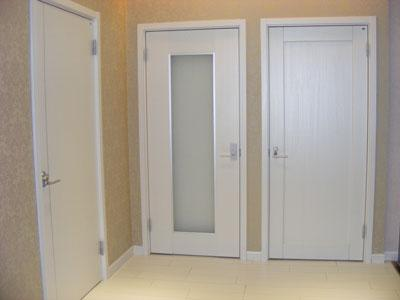door: (266, 27, 368, 259), (143, 28, 245, 257), (37, 4, 110, 285)
